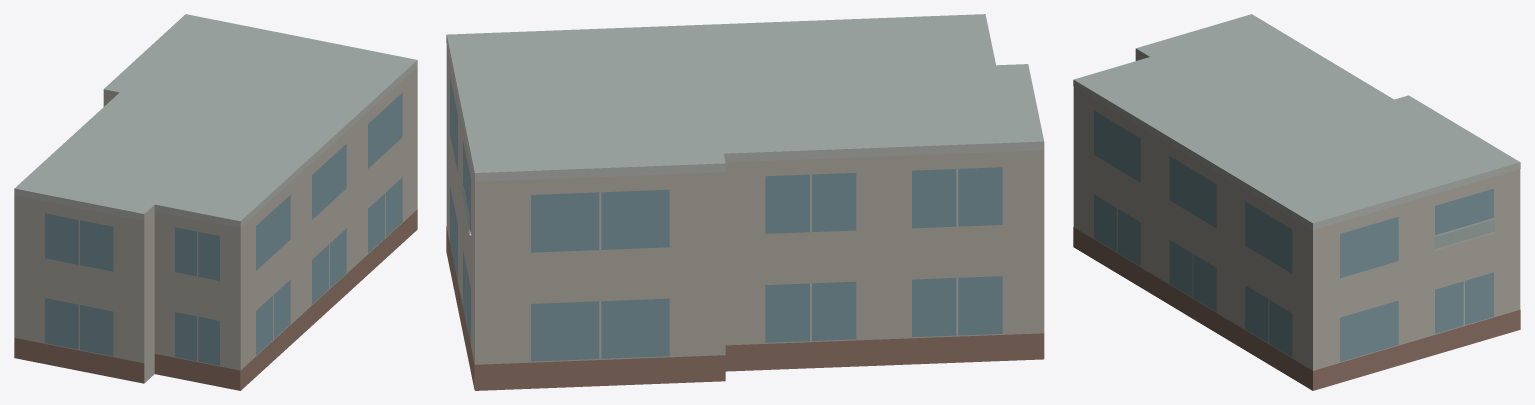
File: survey-upis-32810707.glb
3 views of the same model, side by side, from view 1: azimuth 30°, elevation 25°; view 2: azimuth 150°, elevation 25°; view 3: azimuth 270°, elevation 25° (orthographic). The views are drawn at different scales.
Visible parts, largest first — view 1: survey-upis-32810707.tmp; view 2: survey-upis-32810707.tmp; view 3: survey-upis-32810707.tmp.
Boxes of the visible parts, x1=… form: survey-upis-32810707.tmp: x1=14, y1=14, x2=417, y2=390; survey-upis-32810707.tmp: x1=446, y1=14, x2=1044, y2=390; survey-upis-32810707.tmp: x1=1073, y1=14, x2=1520, y2=390.
Bounding box in the file's own units: 16.36 × 6.1 × 14.76.
